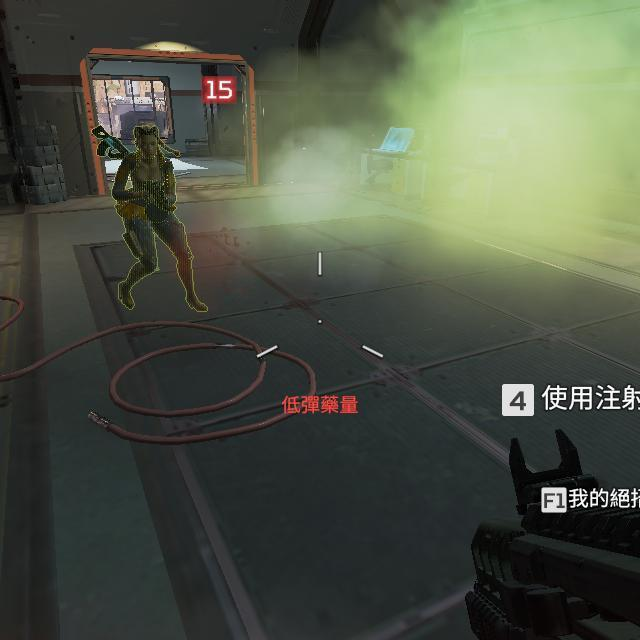avatar: (111, 121, 181, 313)
